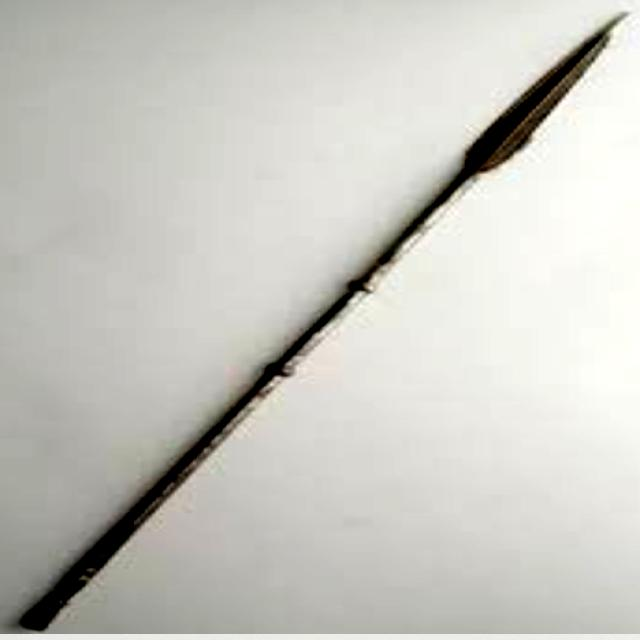spear: (20, 6, 640, 614)
